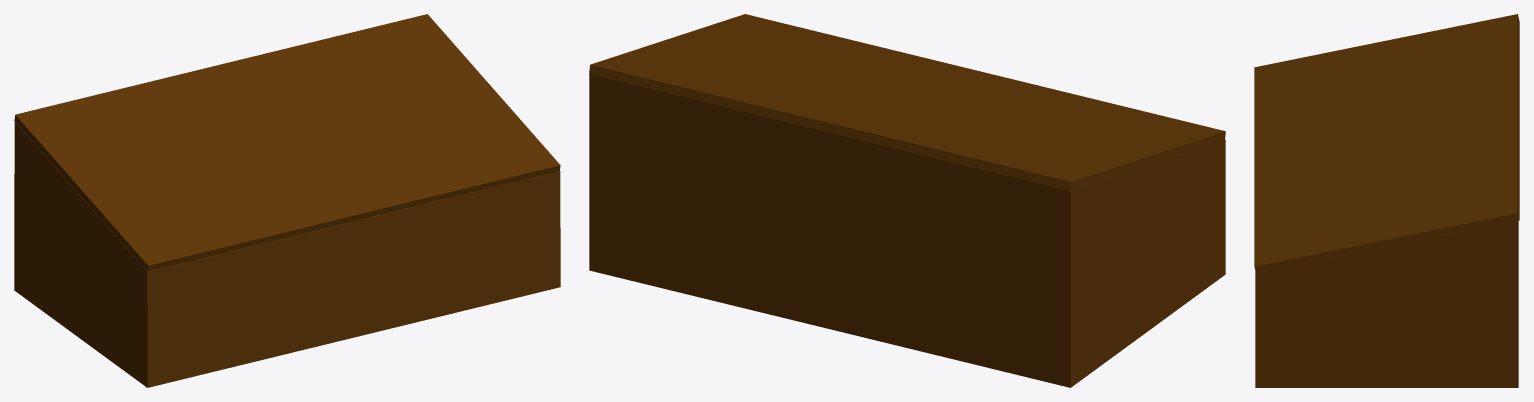
Rendered from BoxForWood.fbx.
3 views of the same model, side by side, from view 1: azimuth 30°, elevation 25°; view 2: azimuth 150°, elevation 25°; view 3: azimuth 270°, elevation 25° (orthographic). The views are drawn at different scales.
Parts seen in each view (by area): view 1: boxDoor, box; view 2: box, boxDoor; view 3: boxDoor, box.
Boxes of the visible parts, left/top/right/bottom form: boxDoor: left=14, top=14, right=560, bottom=271; box: left=14, top=121, right=560, bottom=387; box: left=589, top=74, right=1225, bottom=387; boxDoor: left=589, top=14, right=1225, bottom=191; boxDoor: left=1254, top=14, right=1519, bottom=272; box: left=1255, top=220, right=1518, bottom=387.
Bounding box in the file's own units: 18.79 × 7.66 × 10.55.
